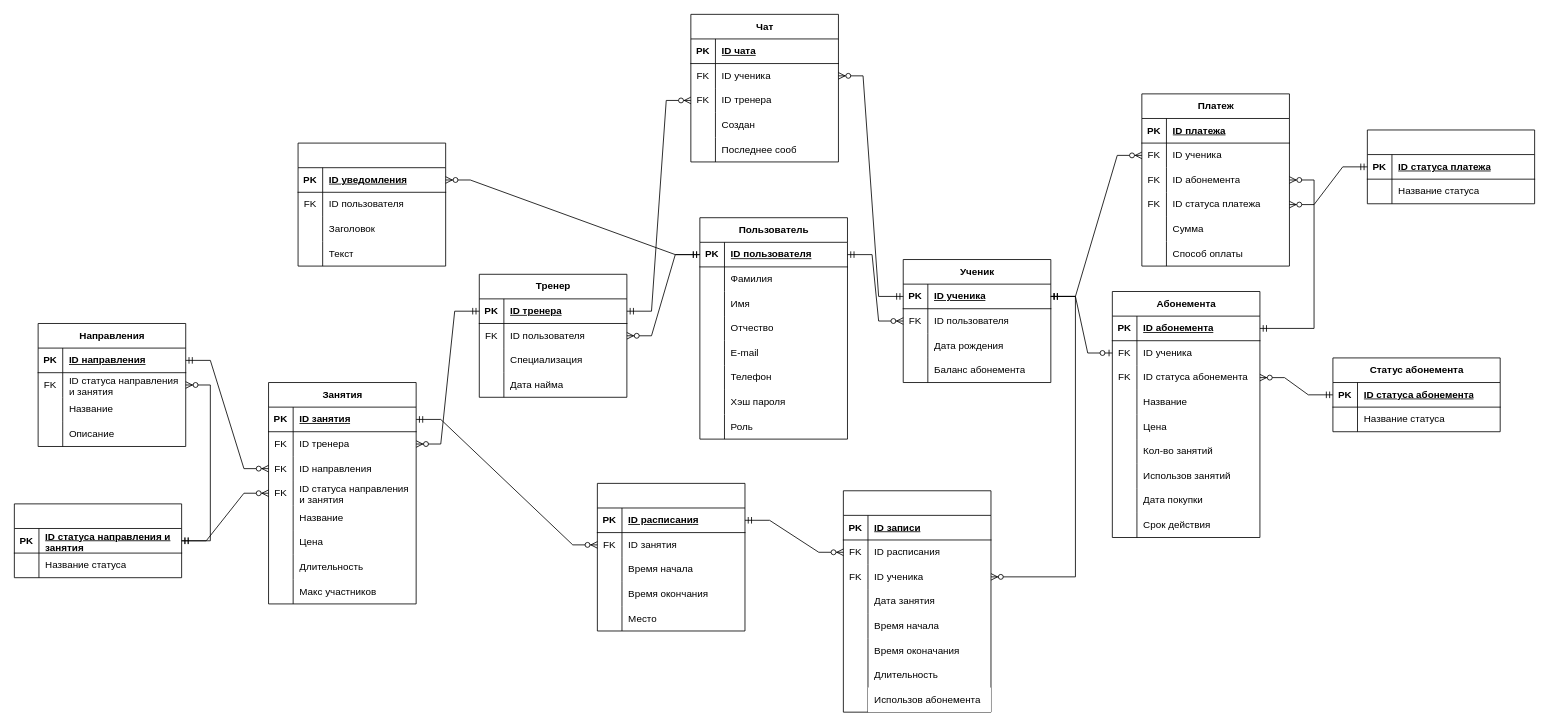
The diagram is 1549 pixels wide and 727 high, and some of its shapes have lost their labels. The box of each missing label's shape, as (x1, y1, x2, y2) in pixels:
Запись: (843, 490, 991, 712)
Расписание: (597, 483, 745, 631)
Статус направления и занятия: (14, 503, 182, 578)
Статус платежа: (1367, 129, 1535, 204)
Уведомление: (297, 142, 446, 266)
